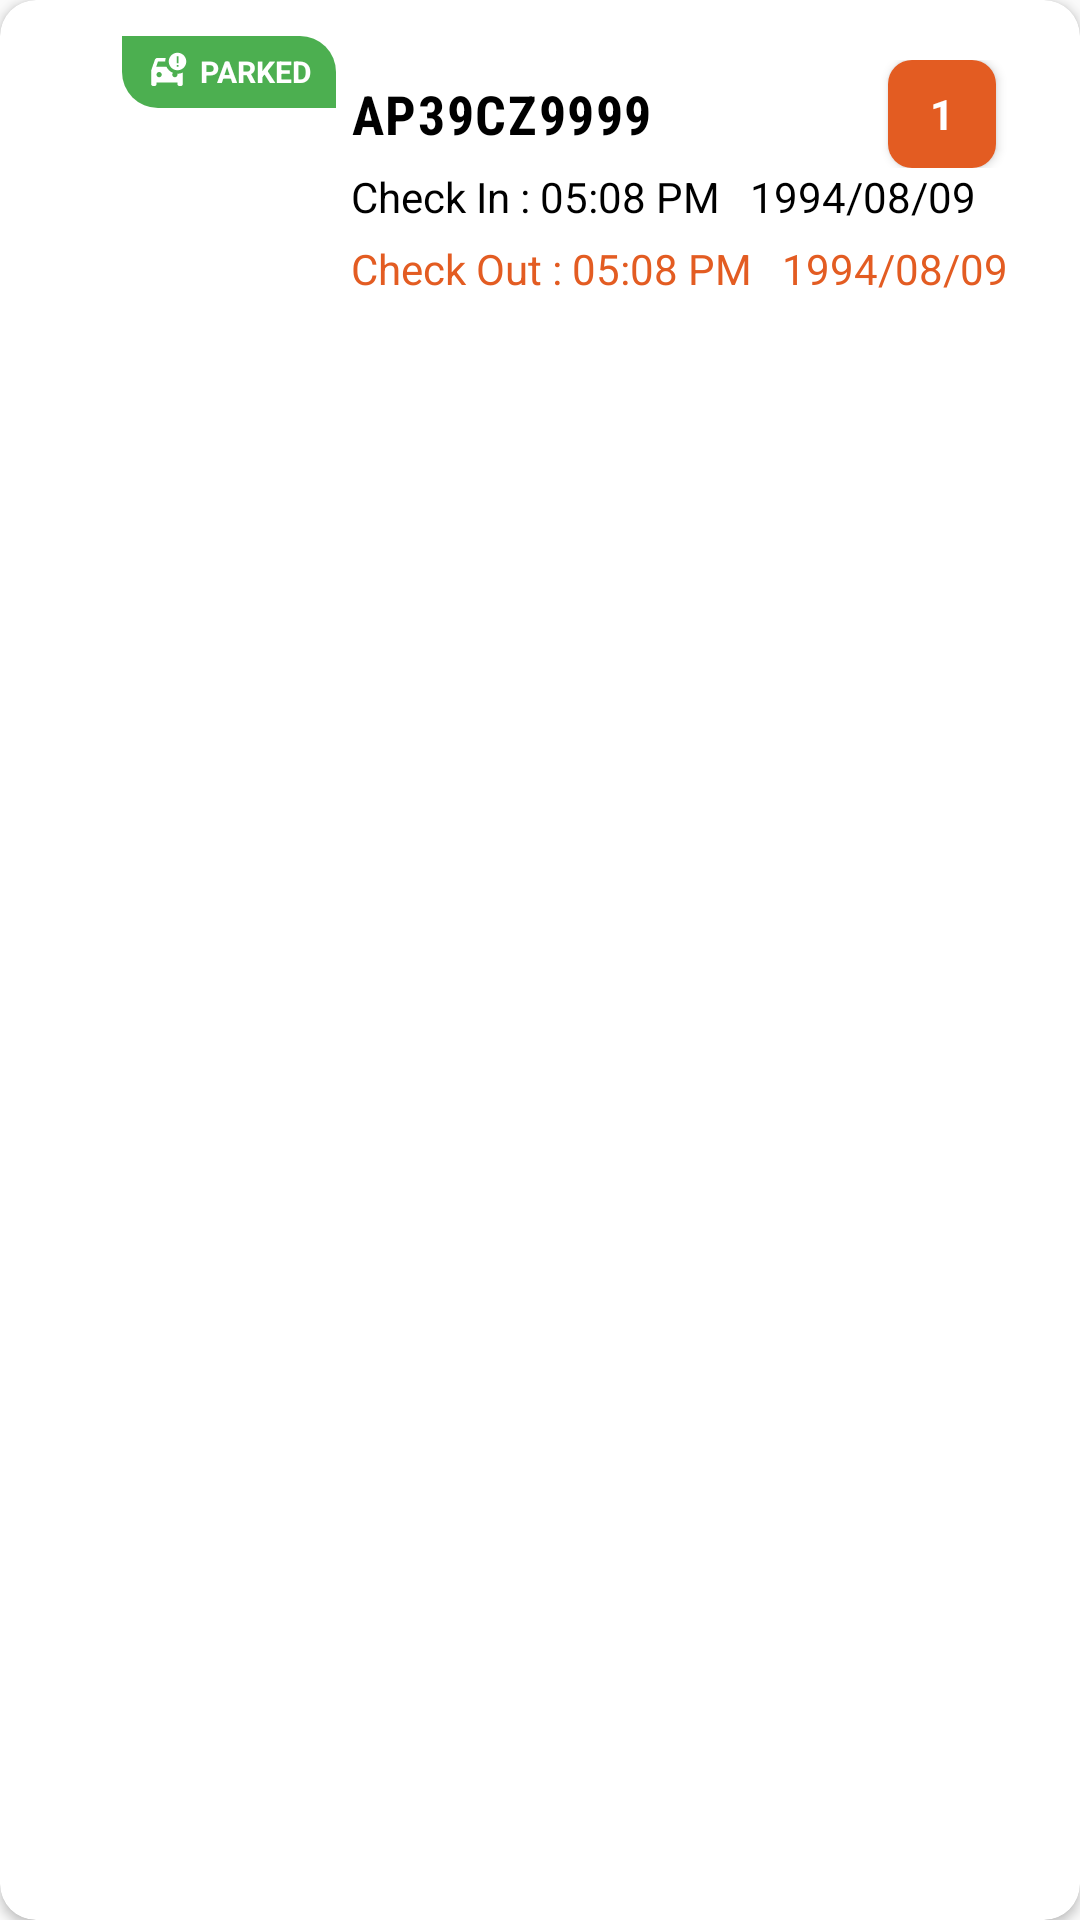

Icon click points for this 1080w x 1920h phone screenshot, format [x,y]:
car crash: [169,69]
